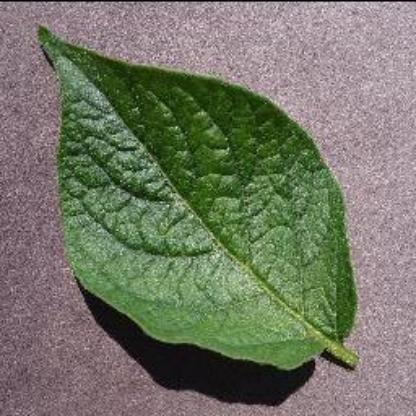Healthy-plant: (26, 18, 386, 378)
